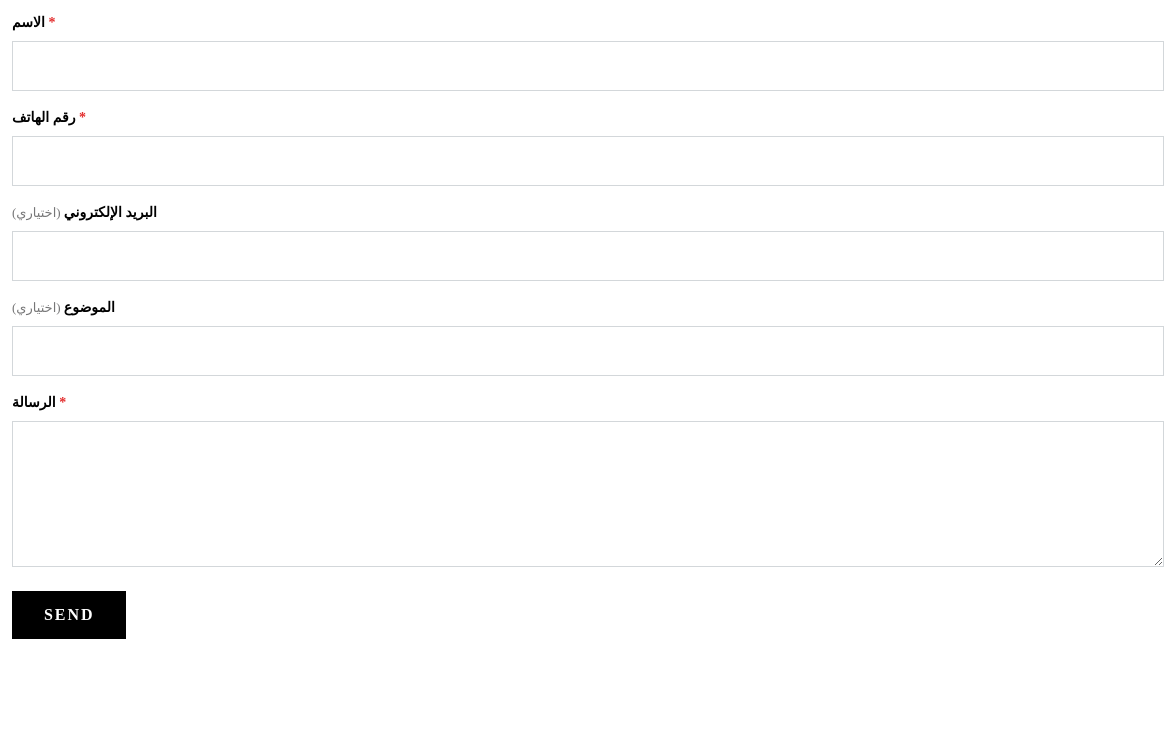
forms drawn from the API › a request that fails (offline, an error page) shows a message and keeps what was typed (ar)
This screenshot has width=1176, height=732.
Type "Hello" into the field labelled "الاسم" at [588, 66], box [12, 41, 1164, 91]
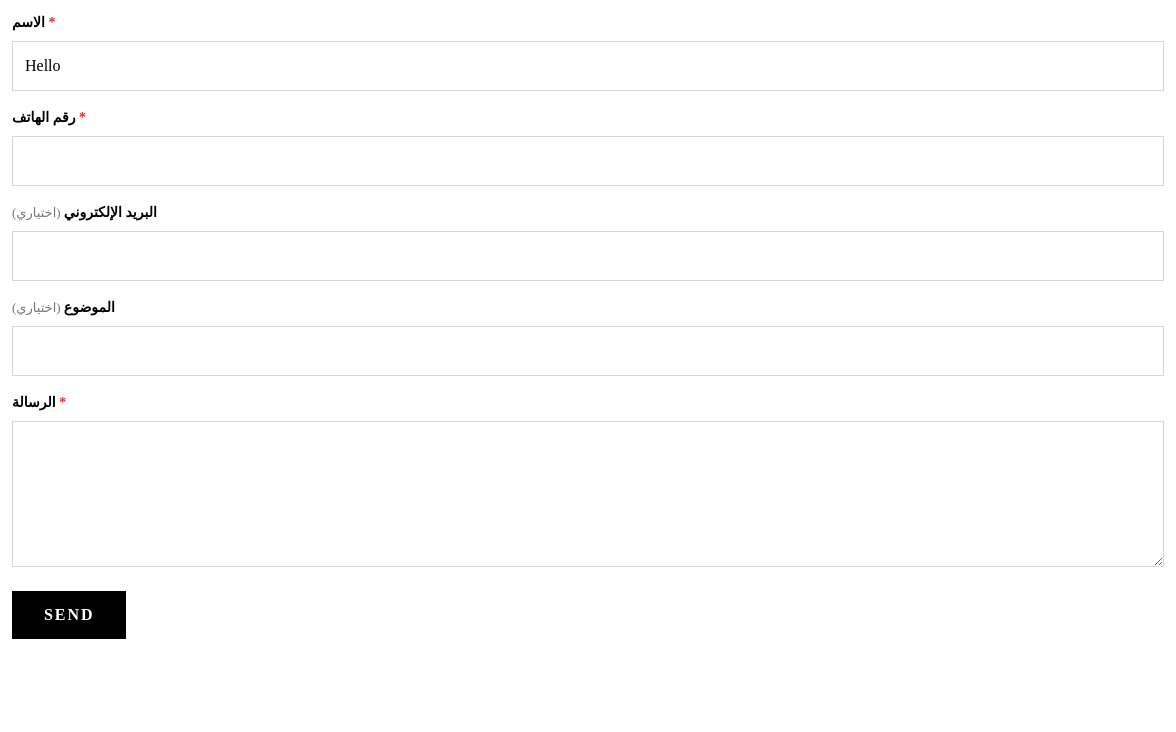
Type "01000000001" into the field labelled "رقم الهاتف" at [588, 161], box [12, 136, 1164, 186]
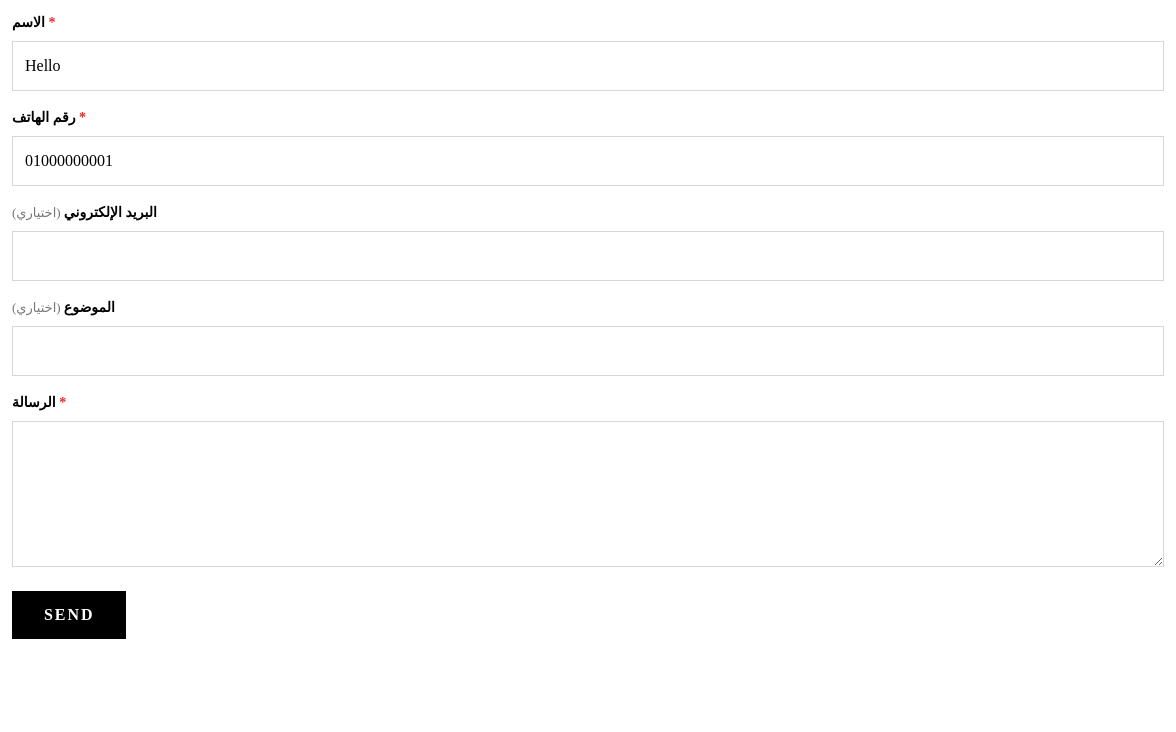
Type "mona@example.com" into the field labelled "البريد الإلكتروني (اختياري)" at [588, 256], box [12, 231, 1164, 281]
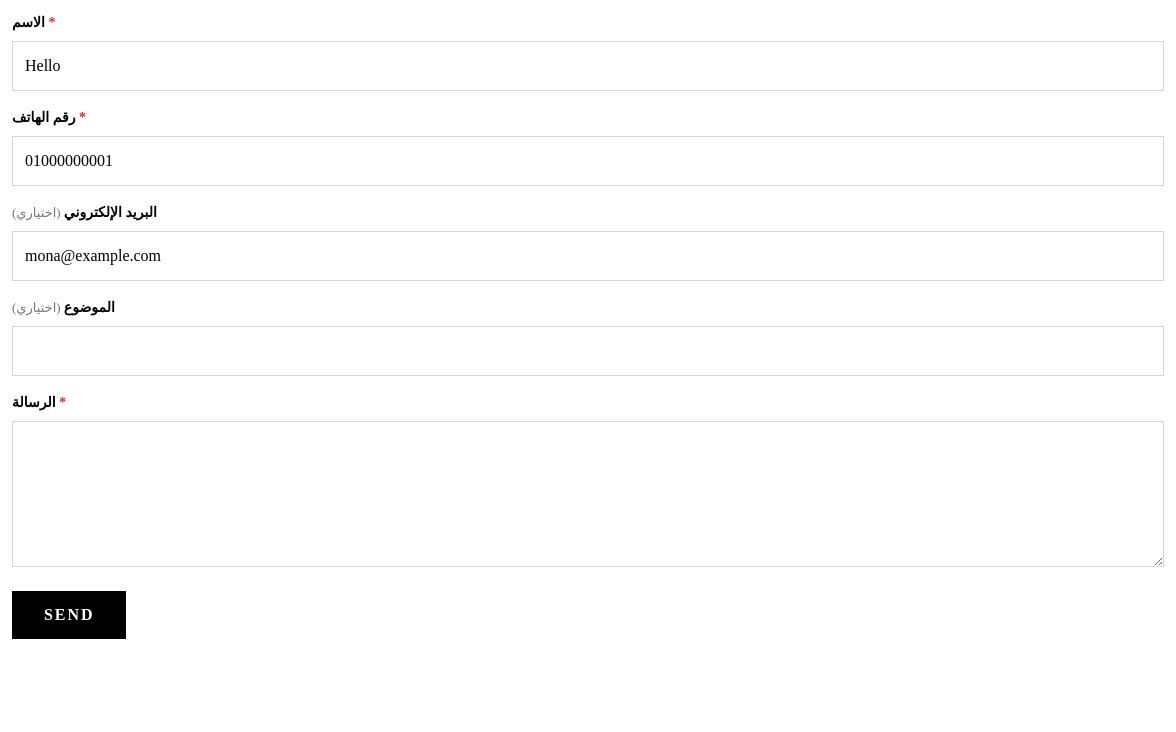
Type "Hello" into the field labelled "الموضوع (اختياري)" at [588, 351], box [12, 326, 1164, 376]
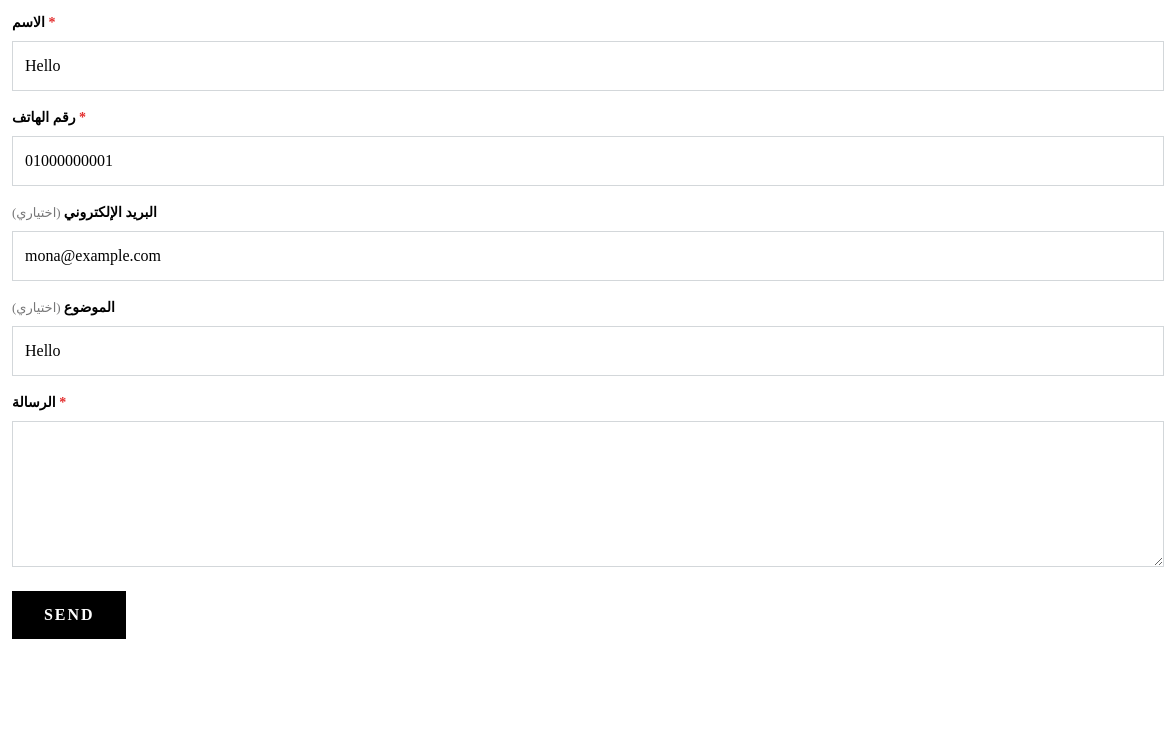
Type "Hello" into the text box labelled "الرسالة" at [588, 494], box [12, 421, 1164, 567]
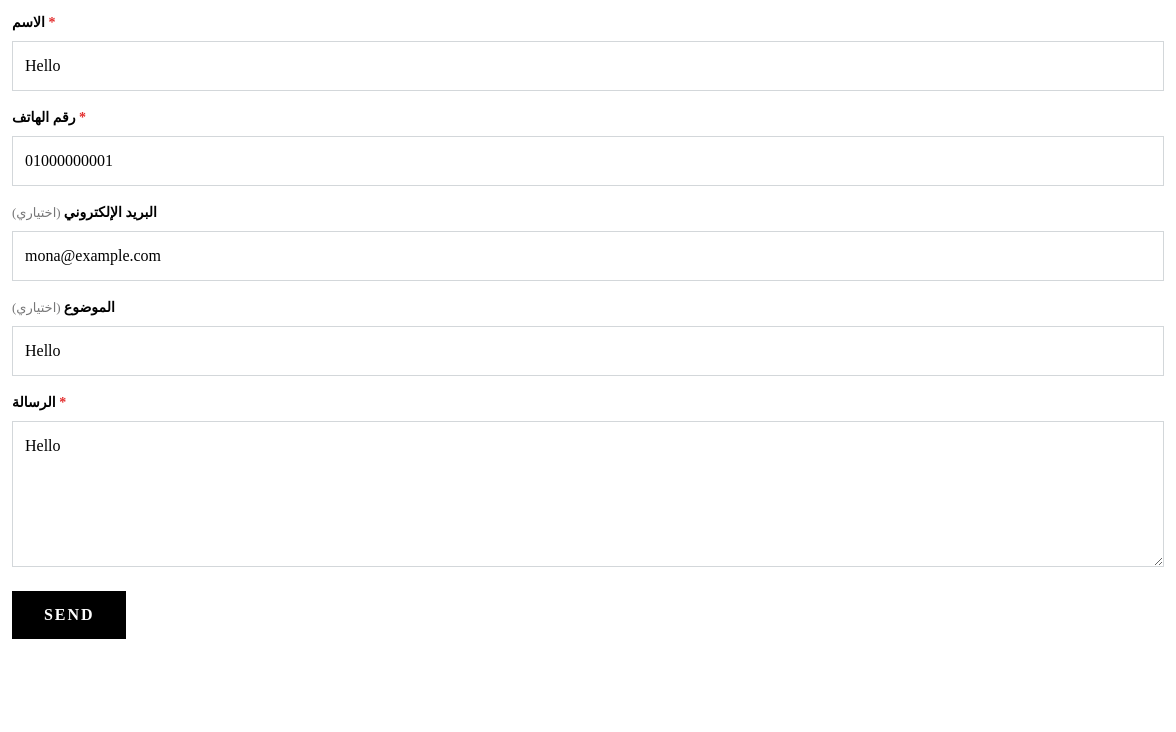
Submit the form with test id "contact-form"
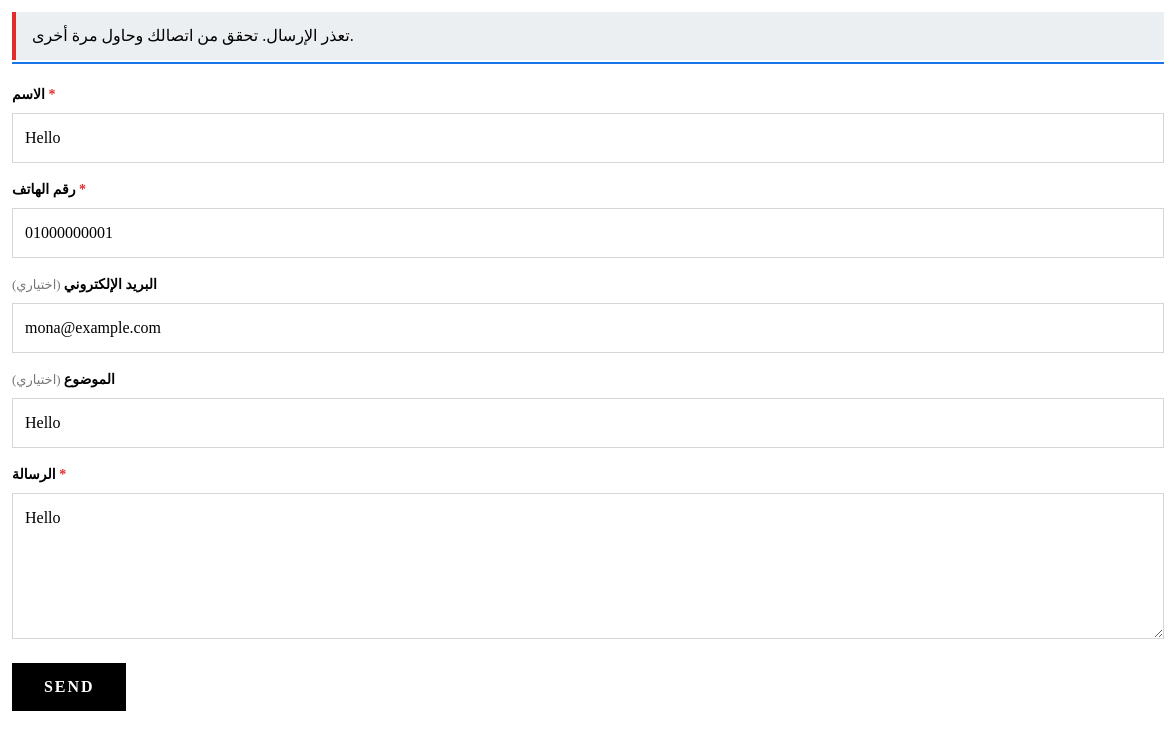
Result: the message with test id "contact-form-message" reads "تعذر الإرسال. تحقق من اتصالك وحاول مرة أخرى." at [32, 27, 354, 44]
